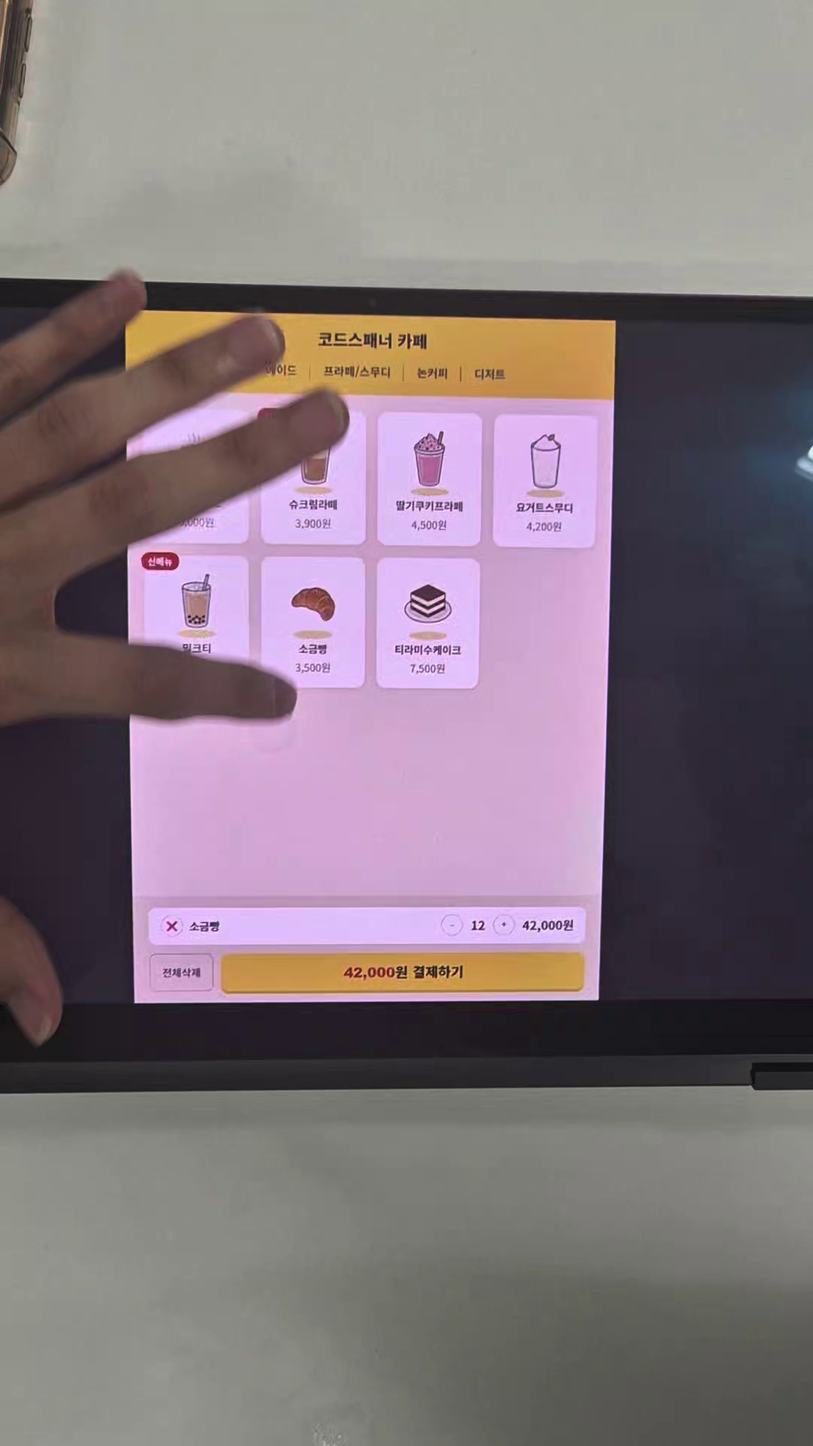action_button: (221, 952, 584, 994), (150, 954, 213, 991)
cart_item: (148, 907, 586, 945)
category_tab: (323, 364, 391, 380), (473, 367, 507, 382), (416, 366, 448, 381)
menu_back: (491, 414, 599, 548), (376, 412, 483, 546), (261, 410, 366, 546), (144, 555, 249, 690), (144, 408, 248, 544), (261, 557, 366, 689), (375, 558, 480, 690)
menu_name: (394, 499, 464, 515), (393, 643, 462, 656), (514, 501, 574, 515), (287, 498, 339, 512), (296, 642, 328, 656)
menu_price: (525, 520, 563, 534), (408, 662, 446, 676), (292, 517, 332, 530), (294, 661, 331, 675), (410, 519, 448, 532)
